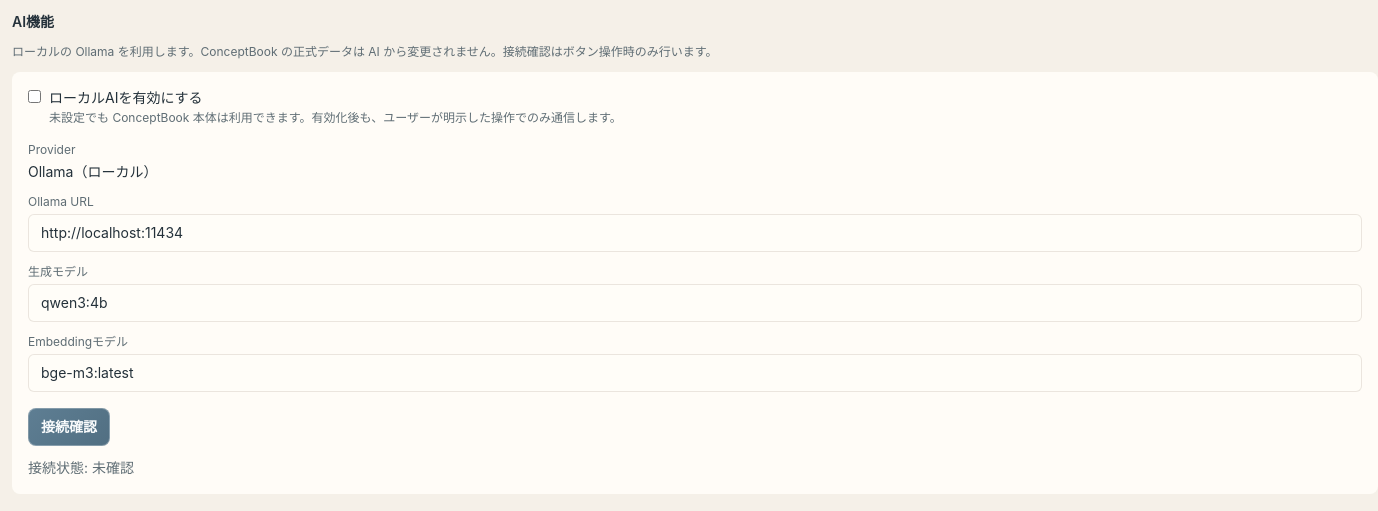
Test case: AISettingsSection › 接続失敗を表示する
Click the button "接続確認" at (69, 427), box [28,408,110,446]
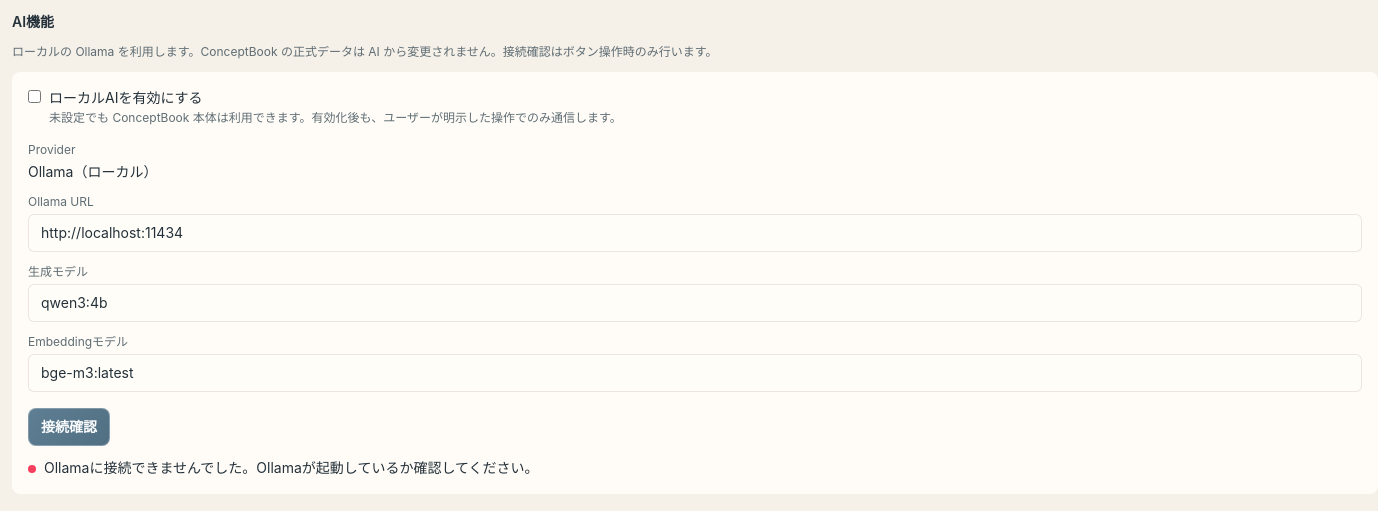
expect the text "Ollamaに接続できませんでした。Ollamaが起動しているか確認してください。" is shown: met, box [28,459,539,476]
